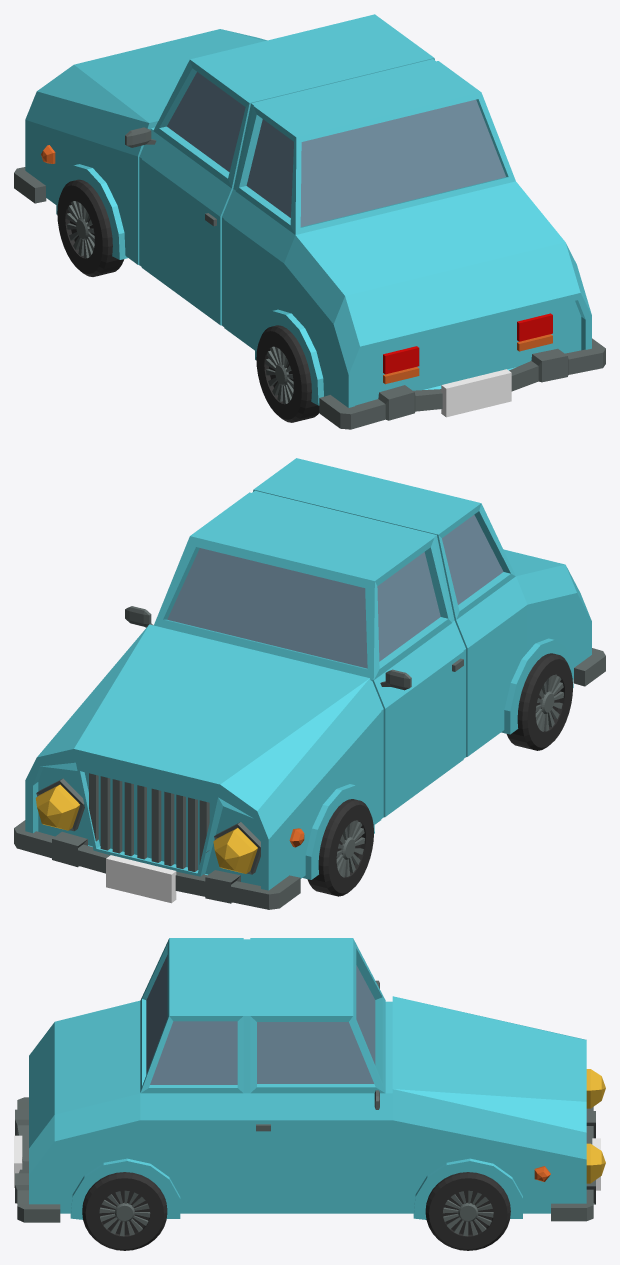
The model's file is car.fbx.
3 renders of one model, top to bottom at view 1: azimuth 30°, elevation 25°; view 2: azimuth 150°, elevation 25°; view 3: azimuth 270°, elevation 25°, orthographic. The views are drawn at different scales.
Parts seen in each view (by area): view 1: Car, Wheel_front_left, Wheel_bottom_left; view 2: Car, Wheel_bottom_left, Wheel_front_left; view 3: Car, Wheel_front_right, Wheel_bottom_right.
Part boxes in pixels (box(x1,y1,x2,y2)): Car: box(14, 14, 605, 429); Wheel_front_left: box(57, 179, 124, 276); Wheel_bottom_left: box(256, 325, 319, 422); Car: box(14, 458, 605, 909); Wheel_bottom_left: box(506, 653, 572, 750); Wheel_front_left: box(307, 799, 373, 896); Car: box(14, 938, 605, 1222); Wheel_front_right: box(425, 1172, 510, 1250); Wheel_bottom_right: box(82, 1172, 167, 1250).
Bounding box in the file's own units: 445 × 378 × 929.
